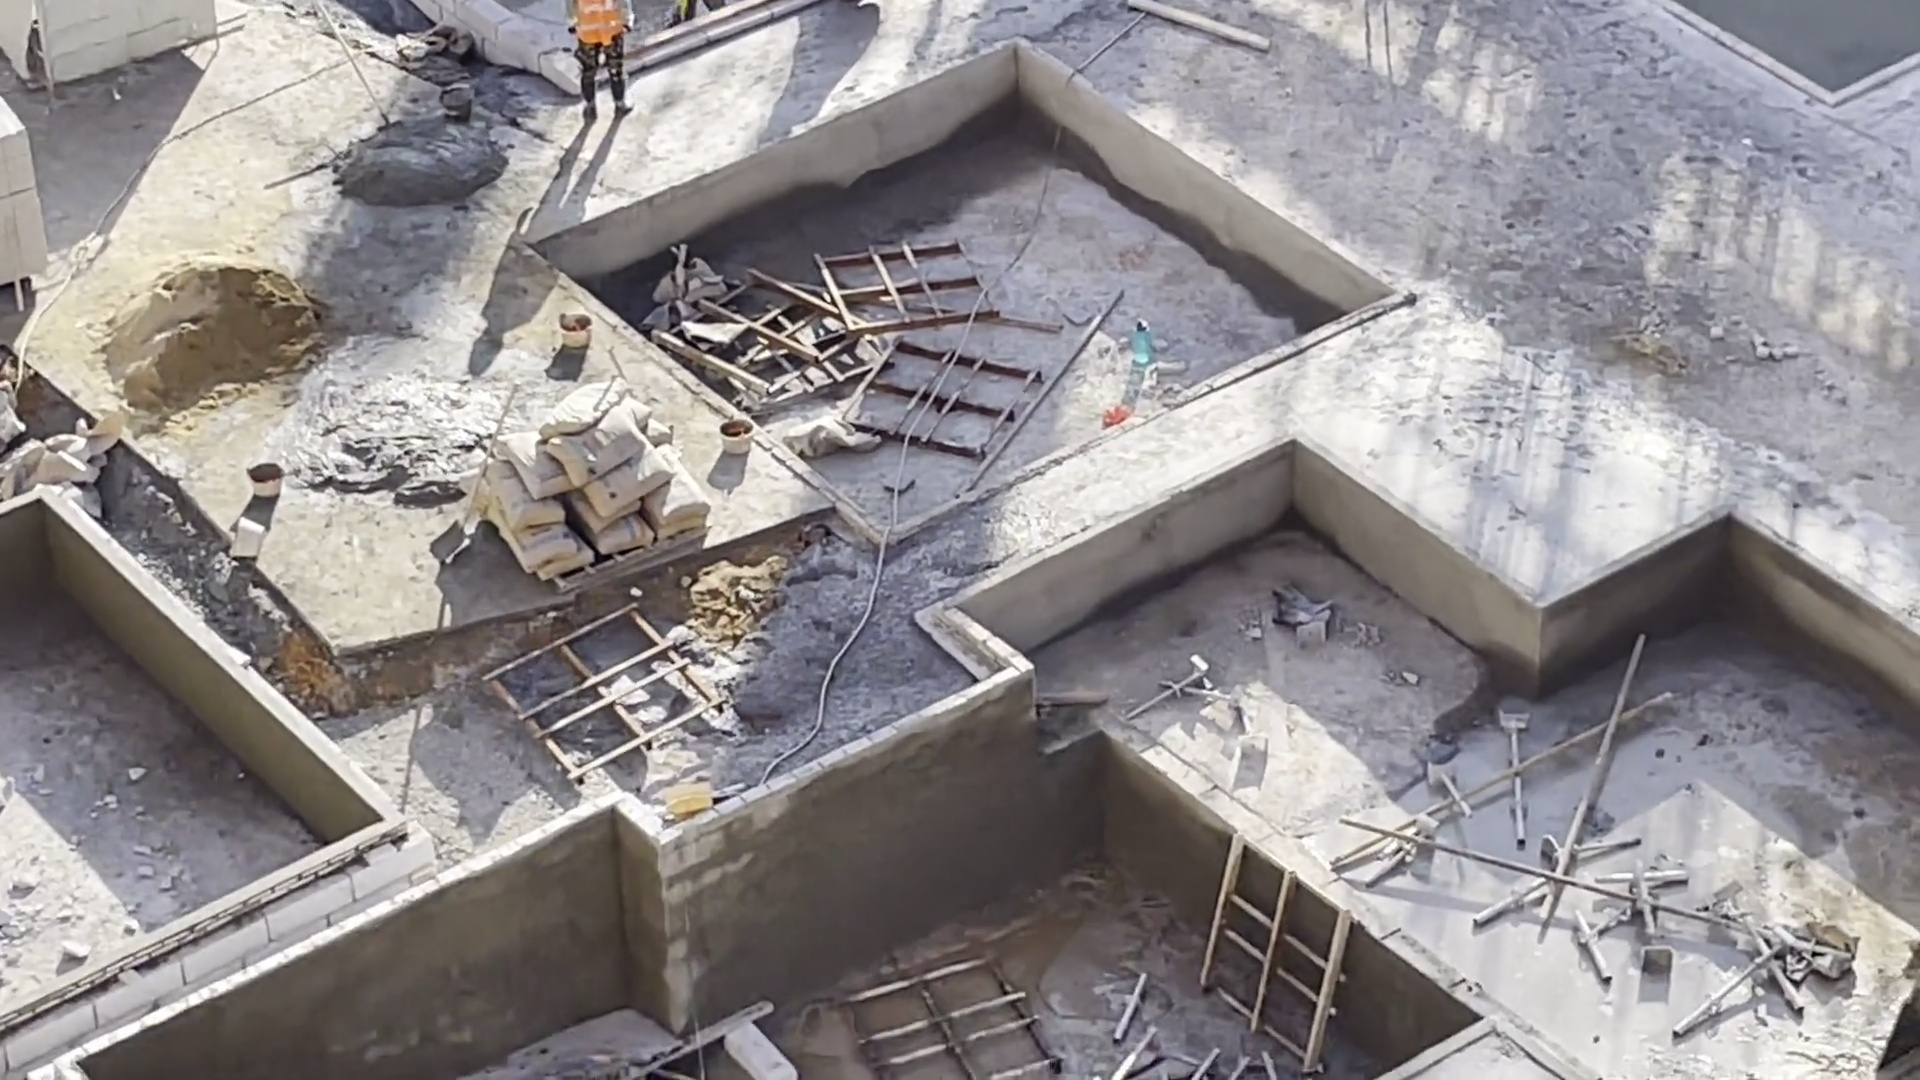person: (564, 1, 663, 122)
vest: (580, 1, 635, 56)
